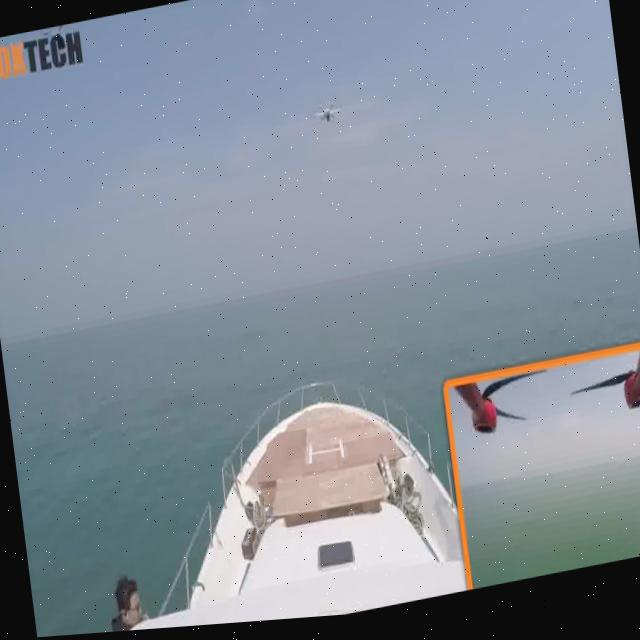drone: (307, 98, 347, 144)
